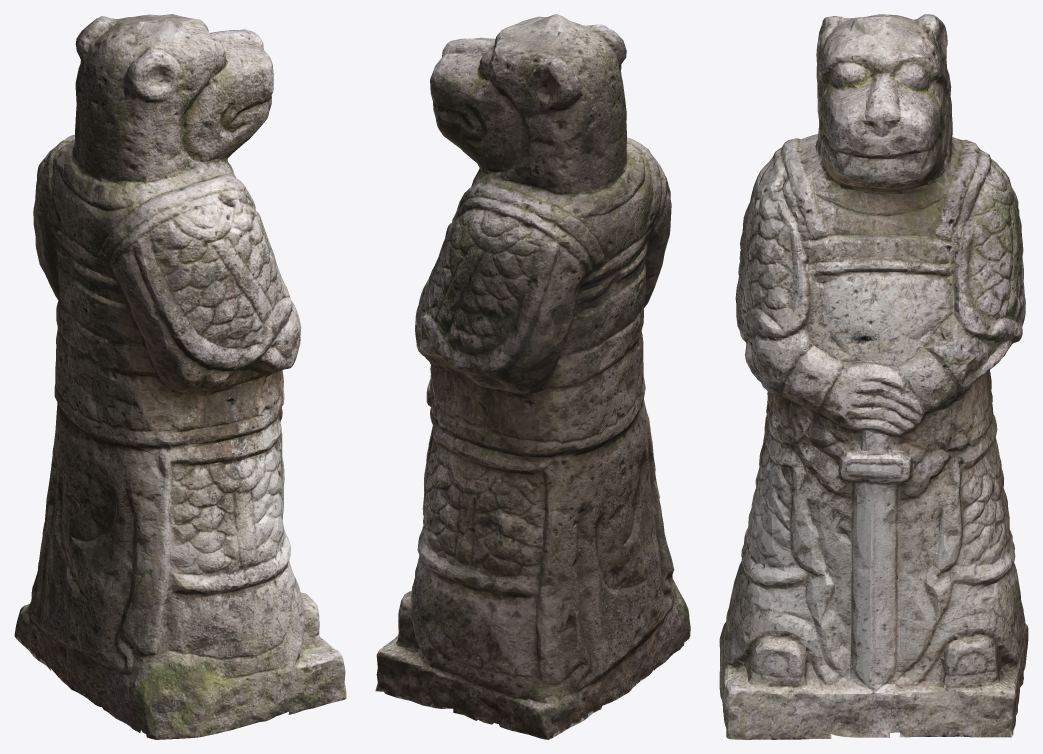
Rendered from stone_dog.glb.
3 renders of one model, left to right at view 1: azimuth 30°, elevation 25°; view 2: azimuth 150°, elevation 25°; view 3: azimuth 270°, elevation 25°, orthographic. The views are drawn at different scales.
Visible parts, largest first — view 1: LOD0; view 2: LOD0; view 3: LOD0.
Boxes of the visible parts, bbox=[...] form: LOD0: bbox=[14, 14, 346, 739]; LOD0: bbox=[375, 14, 690, 739]; LOD0: bbox=[719, 14, 1028, 739].
Size of what is drawn, in the model's own units: 5.88 by 17.99 by 7.58.
1 material, 1 textured.
